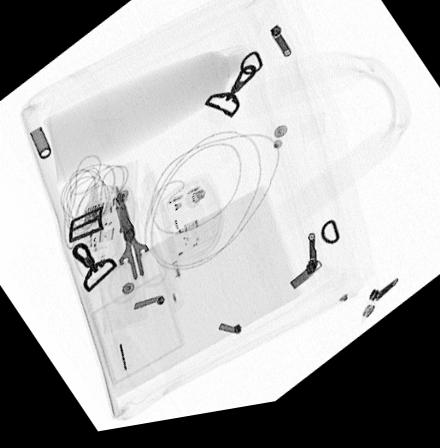Scissors: (103, 188, 170, 309)
